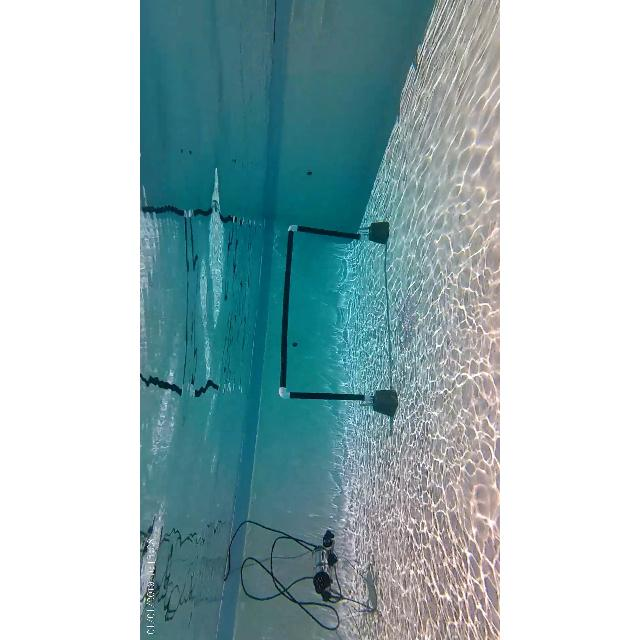prequal gate: (276, 220, 374, 404)
prequal gate leg l: (276, 387, 396, 419)
prequal gate leg r: (281, 218, 393, 246)
